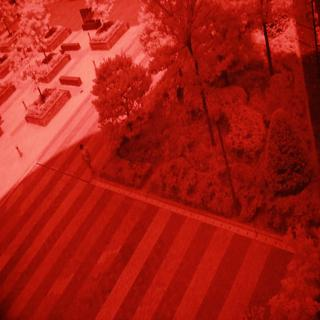person: (70, 137, 97, 183)
